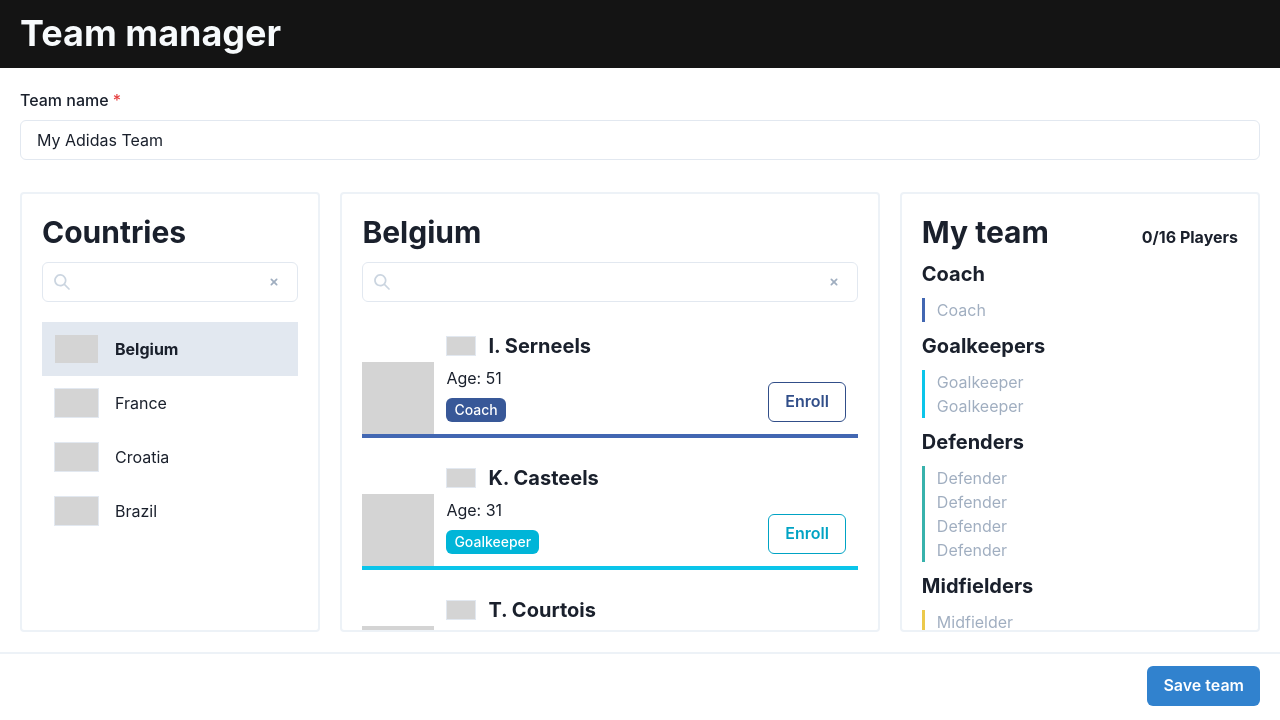
it: <ManagerPlayersList /> › should be able to enroll a player
Expected: the heading "Belgium" is shown, left=362, top=214, right=481, bottom=250
Click the button named "Enroll K. Casteels." at (807, 534), box left=768, top=514, right=846, bottom=554
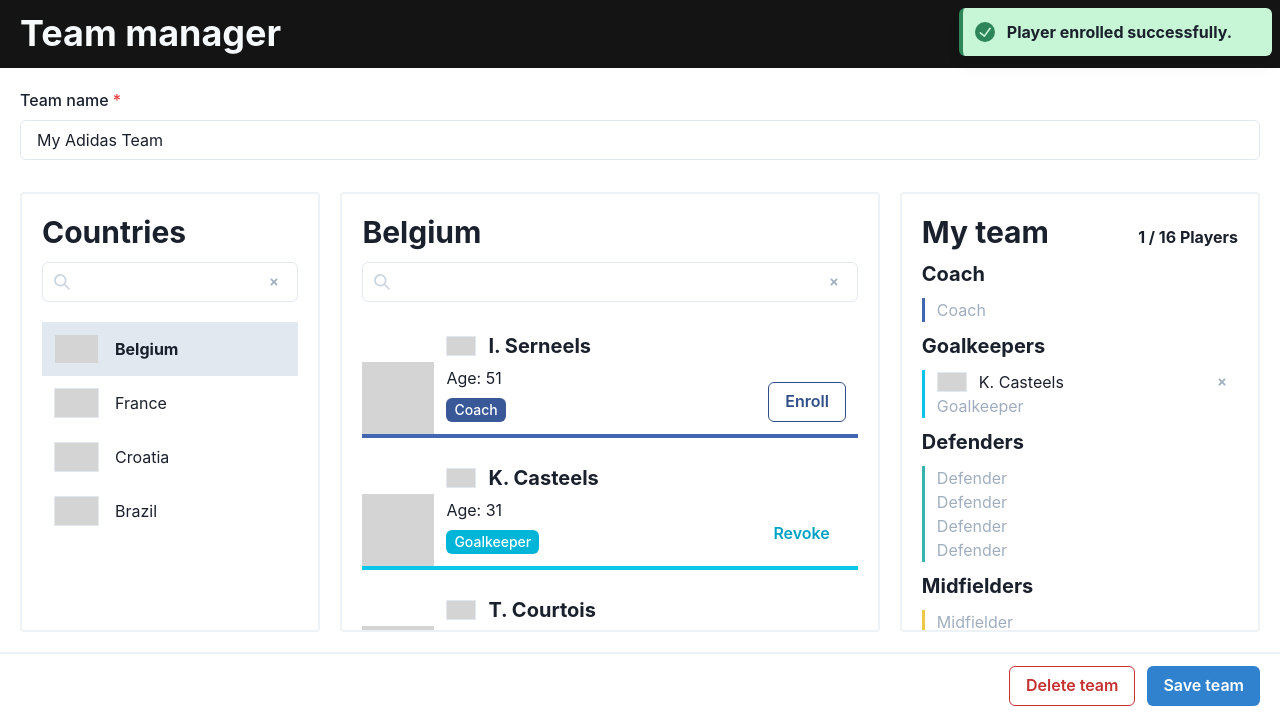
Expected: the text "Player enrolled successfully." is shown, left=1007, top=20, right=1232, bottom=44
Expected: the button named "Remove K. Casteels." below "Goalkeepers" is shown, left=1206, top=370, right=1238, bottom=394
